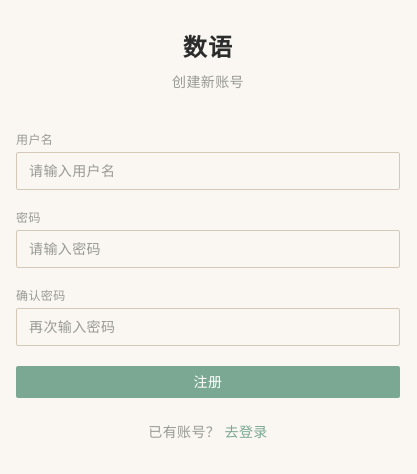
Scenario: RegisterPage › shows error message when registration fails
The width and height of the screenshot is (417, 474).
Type "existing" into the field with placeholder "请输入用户名" at point(208, 171), box [16, 152, 400, 190]
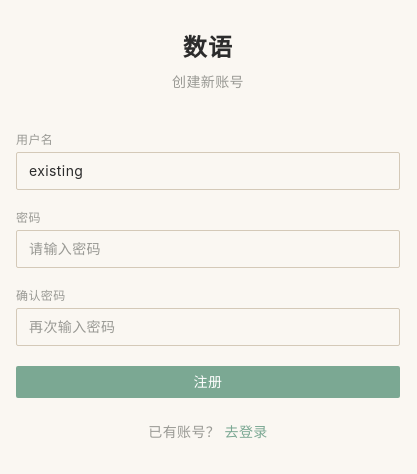
Type "pass123" into the password field with placeholder "请输入密码" at point(208, 249), box [16, 230, 400, 268]
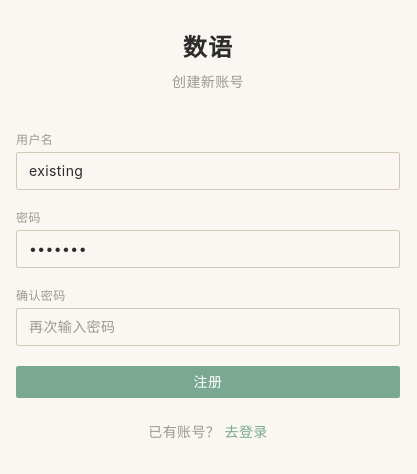
Type "pass123" into the password field with placeholder "再次输入密码" at point(208, 327), box [16, 308, 400, 346]
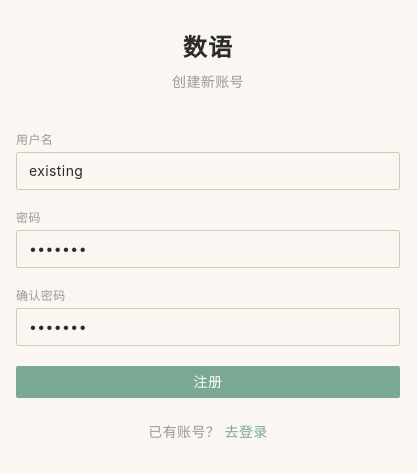
Click the button "注册" at point(208, 382), box [16, 366, 400, 398]
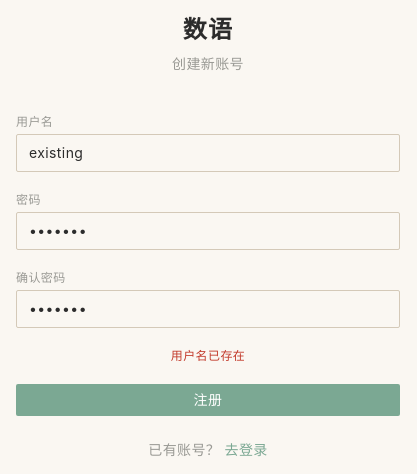
Check: the text "用户名已存在" is shown, box [171, 348, 245, 363]
